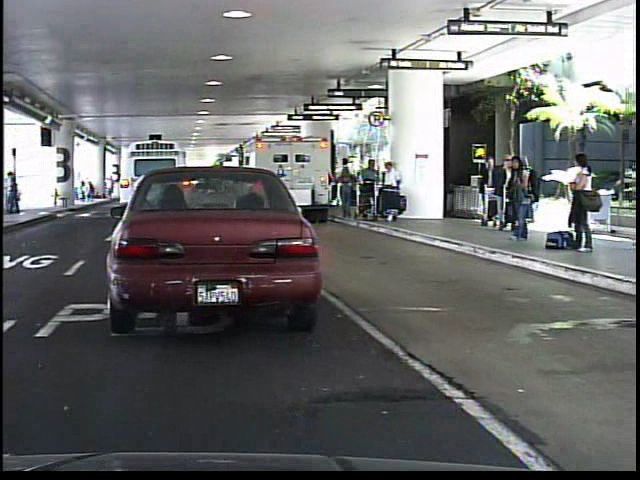person: (565, 148, 595, 258)
